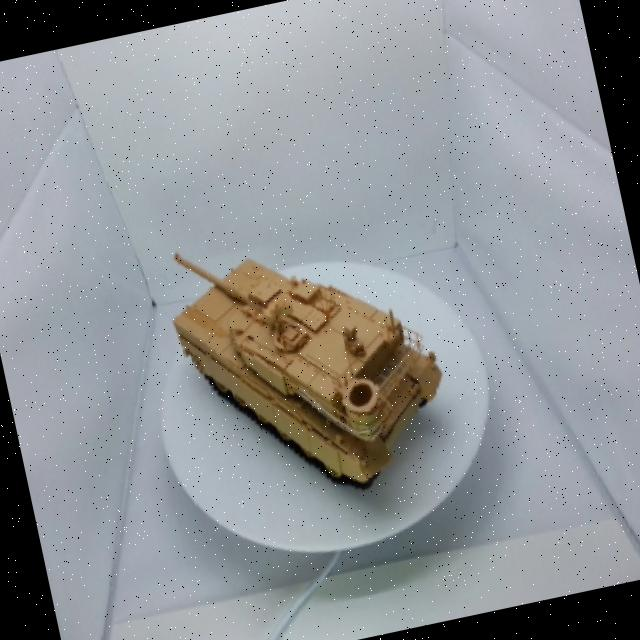korea tank: (122, 177, 476, 538)
